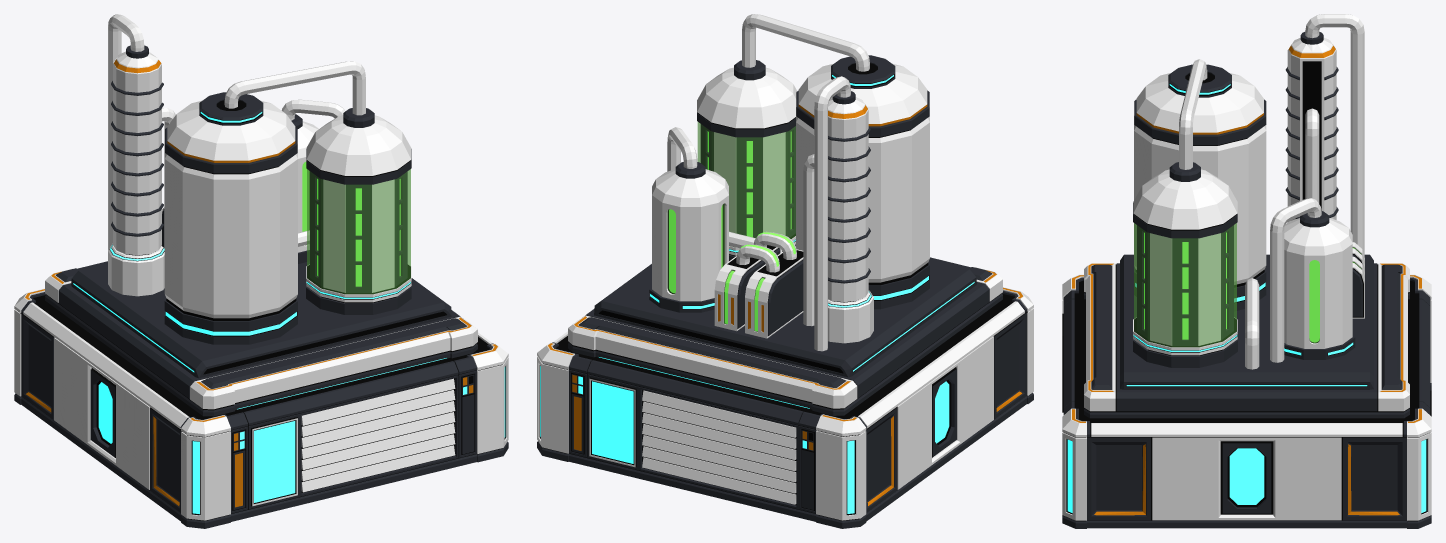
File: SM_BioChem_T3.fbx
3 views of the same model, side by side, from view 1: azimuth 30°, elevation 25°; view 2: azimuth 150°, elevation 25°; view 3: azimuth 270°, elevation 25° (orthographic).
Parts seen in each view (by area): view 1: SM_BioChem_T3; view 2: SM_BioChem_T3; view 3: SM_BioChem_T3.
Part boxes in pixels (x1=…): SM_BioChem_T3: x1=14, y1=14, x2=508, y2=528; SM_BioChem_T3: x1=537, y1=14, x2=1033, y2=528; SM_BioChem_T3: x1=1062, y1=14, x2=1431, y2=528.
Size of the model in its own units: 300 by 352 by 300.
